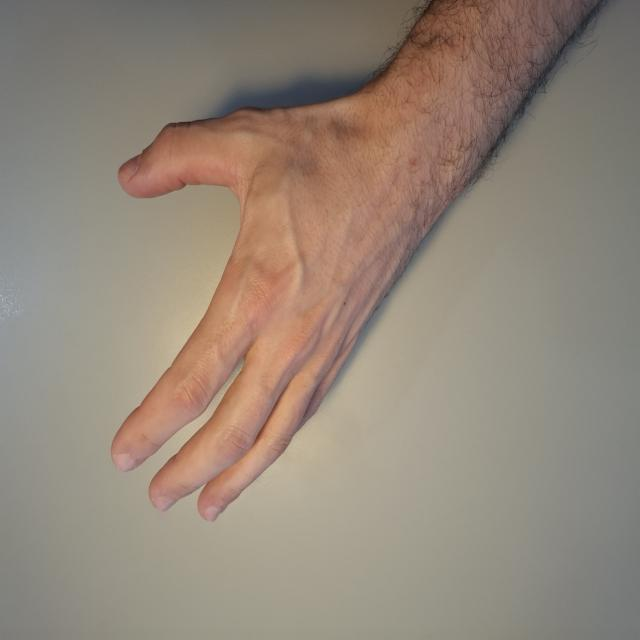glove_off: (107, 81, 430, 526)
